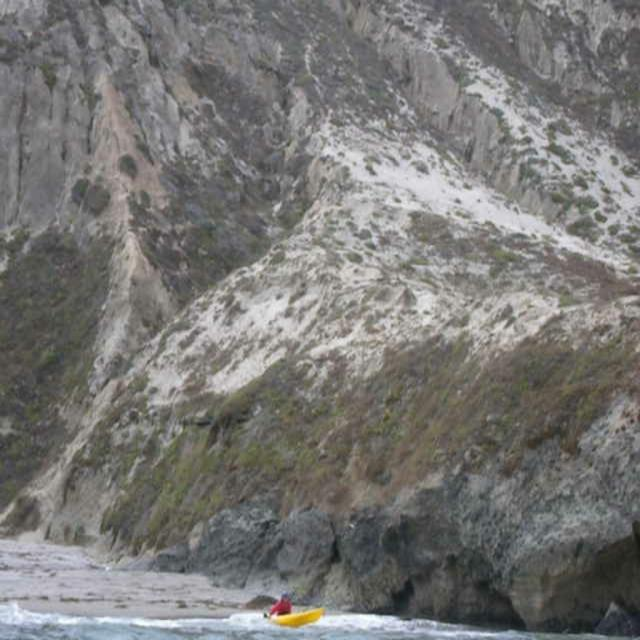Boat: (268, 606, 324, 630)
